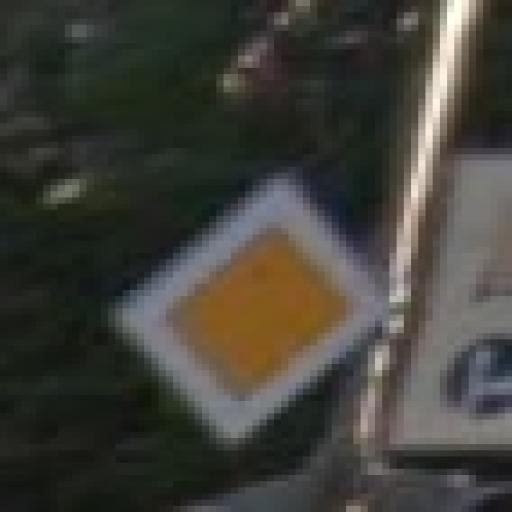traffic_sign: (110, 174, 391, 451)
